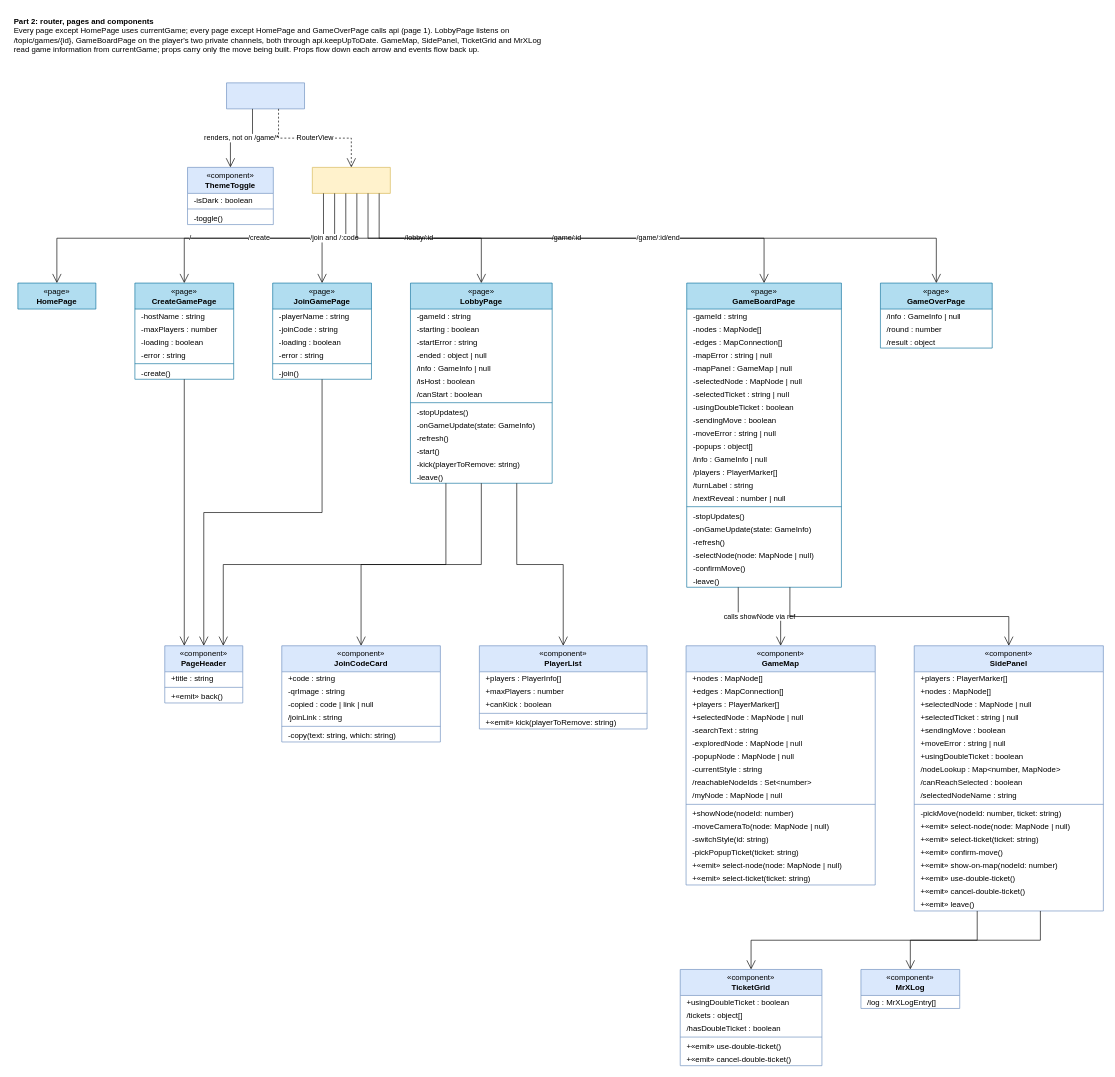
Some shapes in this 1115 by 1077 pixel diagram are drawn without their labels. Here are the shapes that lost their labels. From the top down, the centre of each, then its label:
the point at 265,95: «component» App
the point at 351,180: «router» router
